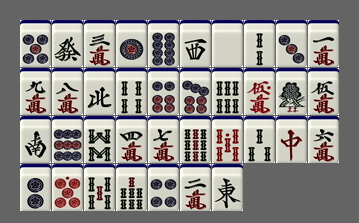0m: (244, 68, 275, 115)
0p: (52, 164, 83, 211)
0s: (212, 116, 243, 163)
1m: (308, 20, 339, 67)
1p: (116, 20, 147, 67)
1s: (276, 68, 307, 115)
1z: (212, 164, 243, 211)
2m: (180, 164, 211, 211)
2p: (20, 164, 51, 211)
2s: (244, 20, 275, 67)
2z: (20, 116, 51, 163)
3m: (84, 20, 115, 67)
3p: (276, 20, 307, 67)
3s: (244, 116, 275, 163)
3z: (180, 20, 211, 67)
4m: (116, 116, 147, 163)
4p: (148, 164, 179, 211)
4s: (116, 68, 147, 115)
4z: (84, 68, 115, 115)
5m: (308, 68, 339, 115)
5p: (20, 20, 51, 67)
5s: (84, 164, 115, 211)
5z: (212, 20, 243, 67)
6m: (308, 116, 339, 163)
6p: (148, 68, 179, 115)
6s: (212, 68, 243, 115)
6z: (52, 20, 83, 67)
7m: (148, 116, 179, 163)
7p: (180, 68, 211, 115)
7s: (116, 164, 147, 211)
7z: (276, 116, 307, 163)
8m: (52, 68, 83, 115)
8p: (148, 20, 179, 67)
8s: (84, 116, 115, 163)
9m: (20, 68, 51, 115)
9p: (52, 116, 83, 163)
9s: (180, 116, 211, 163)
